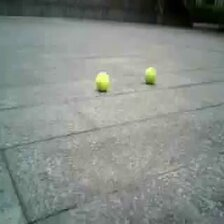tennis: (96, 72, 110, 90), (144, 67, 157, 84)
